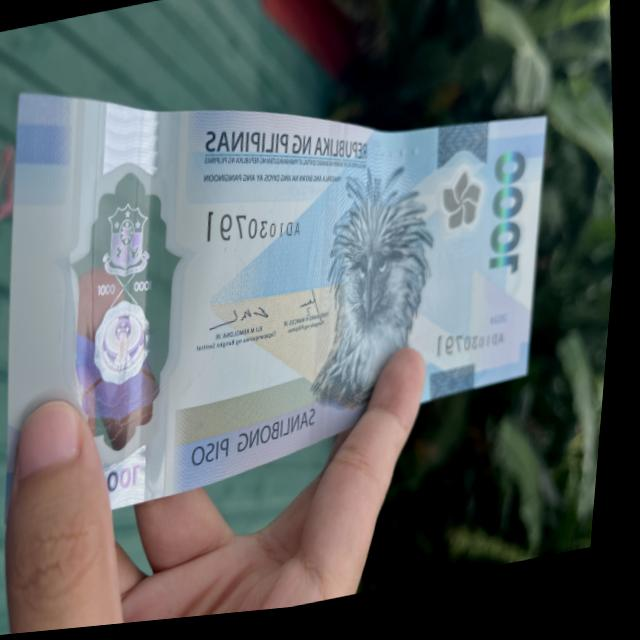clear_window: (20, 74, 240, 525)
eagle: (296, 163, 459, 430)
sampaguita: (434, 169, 496, 276)
serial_number: (200, 195, 310, 263)
